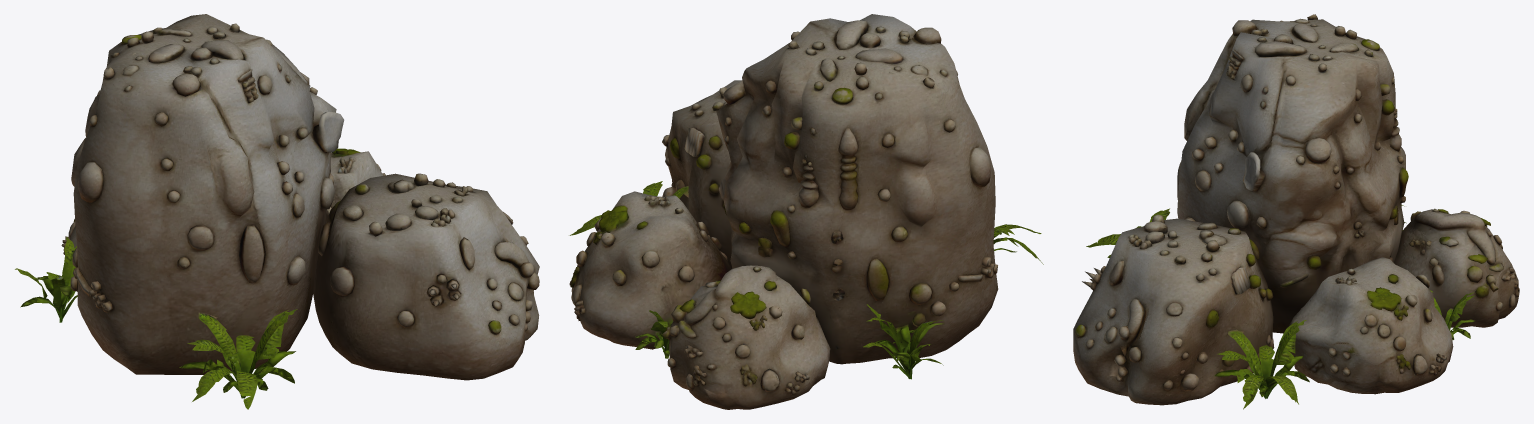
The model's file is jun_boulder_cluster_mossy_a.glb.
3 views of the same model, side by side, from view 1: azimuth 30°, elevation 25°; view 2: azimuth 150°, elevation 25°; view 3: azimuth 270°, elevation 25° (orthographic). The views are drawn at different scales.
Parts seen in each view (by area): view 1: tripo_node_2fa632b0-3145-4e0d-9542-0eff213807a1; view 2: tripo_node_2fa632b0-3145-4e0d-9542-0eff213807a1; view 3: tripo_node_2fa632b0-3145-4e0d-9542-0eff213807a1.
Boxes of the visible parts, <box> form: tripo_node_2fa632b0-3145-4e0d-9542-0eff213807a1: <box>15,14,539,409</box>; tripo_node_2fa632b0-3145-4e0d-9542-0eff213807a1: <box>569,14,1043,409</box>; tripo_node_2fa632b0-3145-4e0d-9542-0eff213807a1: <box>1073,14,1519,409</box>.
Bounding box in the file's own units: 0.9824 × 0.6426 × 0.998.
1 material, 1 textured.
